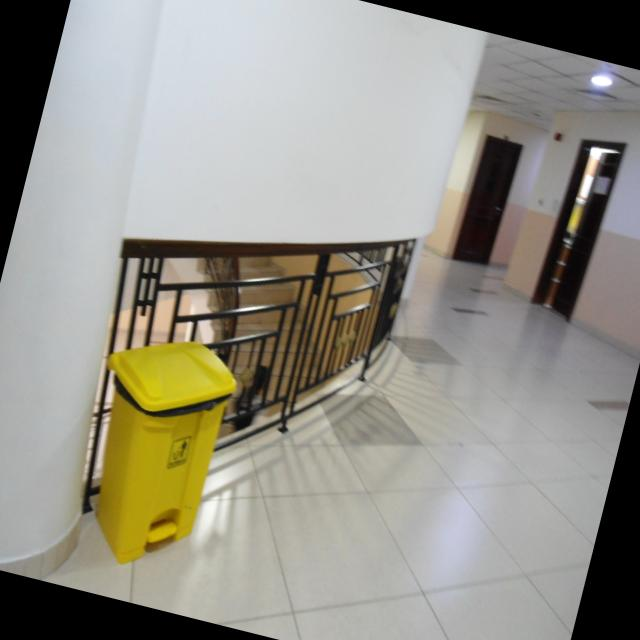door: (536, 121, 622, 328), (445, 128, 528, 272)
dustbin: (58, 306, 256, 590)
railing: (60, 154, 432, 515)
